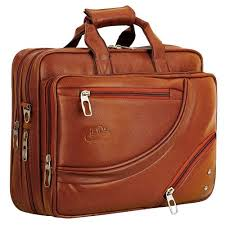bag: (10, 8, 220, 212)
